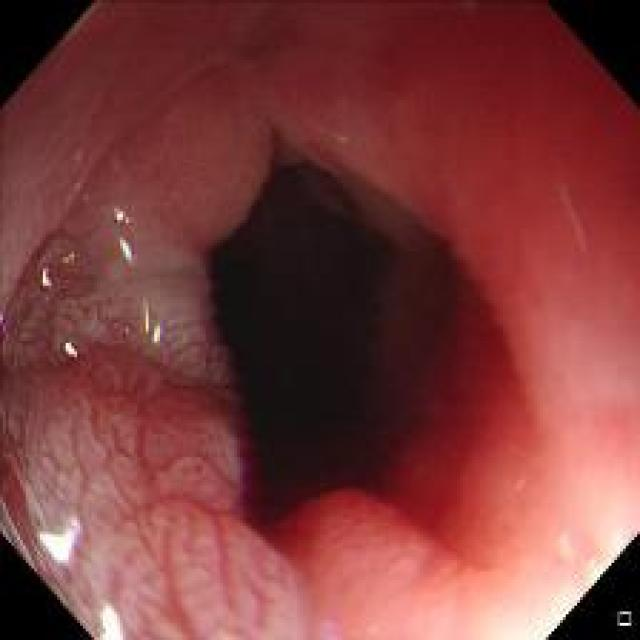color misalignment: (115, 229, 135, 269), (145, 312, 165, 349), (59, 338, 82, 364), (136, 298, 151, 335), (60, 240, 79, 266), (35, 260, 52, 286)
contrast: (226, 160, 411, 499)
saturation: (499, 541, 629, 634)
specularity: (35, 519, 89, 561), (96, 600, 128, 634), (141, 310, 166, 351), (115, 230, 139, 266), (34, 248, 54, 289), (58, 338, 82, 364), (138, 300, 151, 338)
